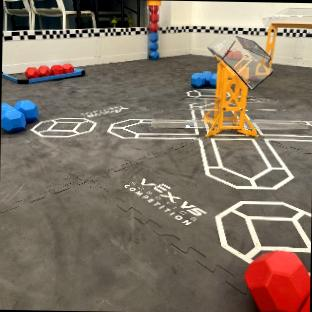Med_goal: (203, 36, 270, 136)
V5_BLUE: (1, 100, 37, 132), (190, 71, 216, 87), (148, 31, 158, 58)
V5_RED: (245, 250, 309, 312), (25, 63, 74, 78), (225, 50, 242, 59)
